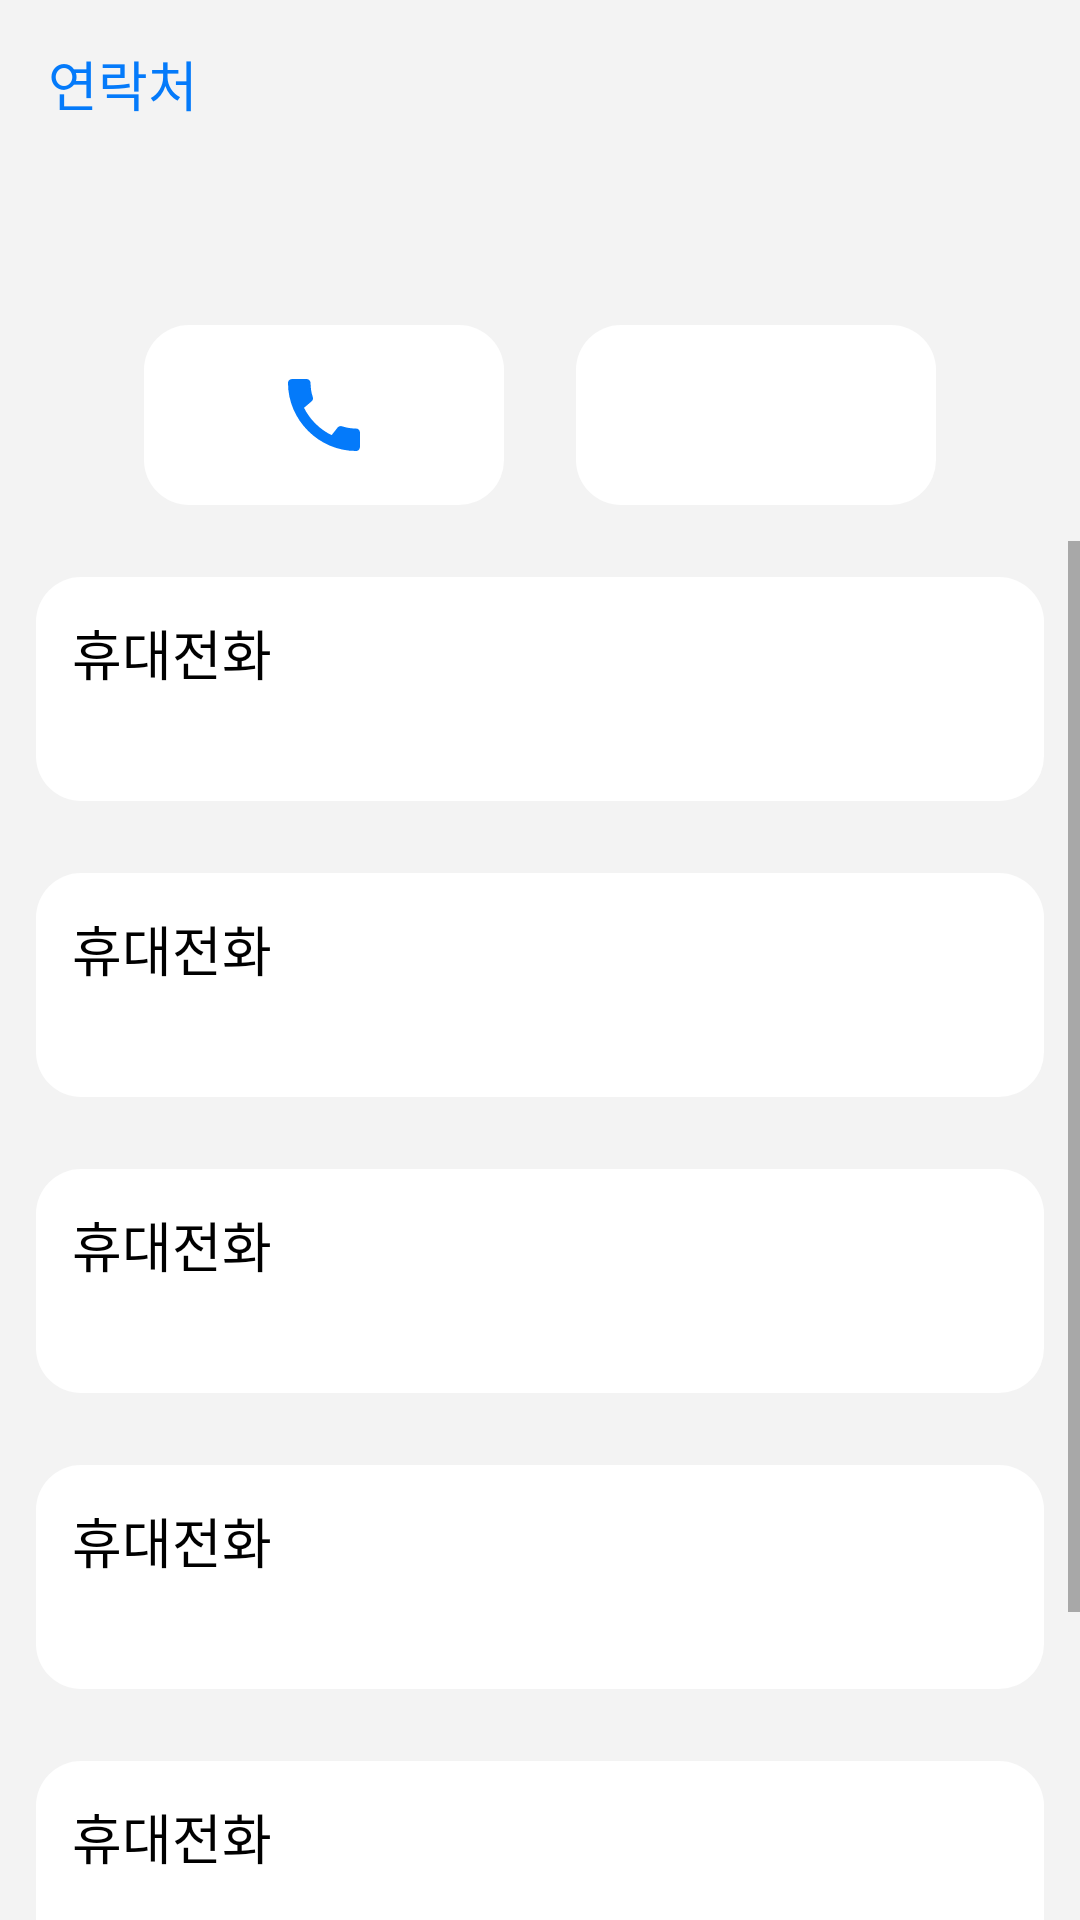

Screen size 1080×1920. Icon name, then its box in pixels as {"x1": x1, "y1": y1, "x2": x2, "y2": y2}:
call: {"x1": 288, "y1": 379, "x2": 360, "y2": 451}
